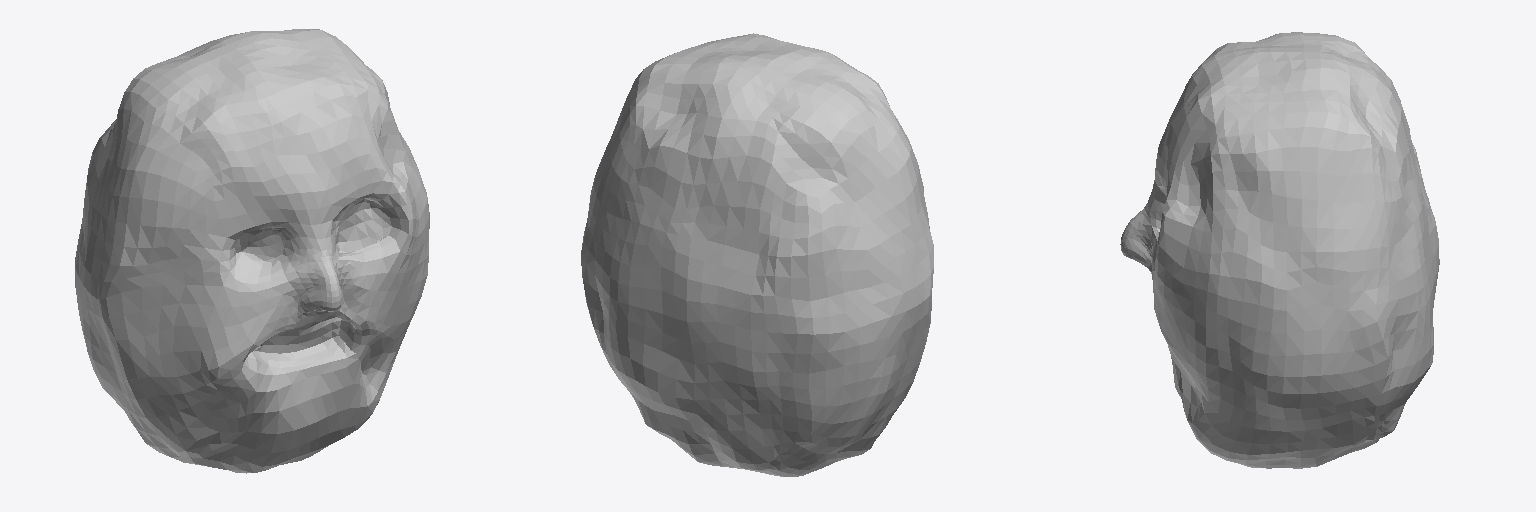
3 views of the same model, side by side, from view 1: azimuth 30°, elevation 25°; view 2: azimuth 150°, elevation 25°; view 3: azimuth 270°, elevation 25° (orthographic).
Parts seen in each view (by area): view 1: l.obj; view 2: l.obj; view 3: l.obj.
Boxes of the visible parts, x1=… form: l.obj: x1=75, y1=29, x2=429, y2=473; l.obj: x1=581, y1=33, x2=933, y2=476; l.obj: x1=1120, y1=32, x2=1439, y2=468.
Bounding box in the file's own units: 109 × 131 × 94.11.